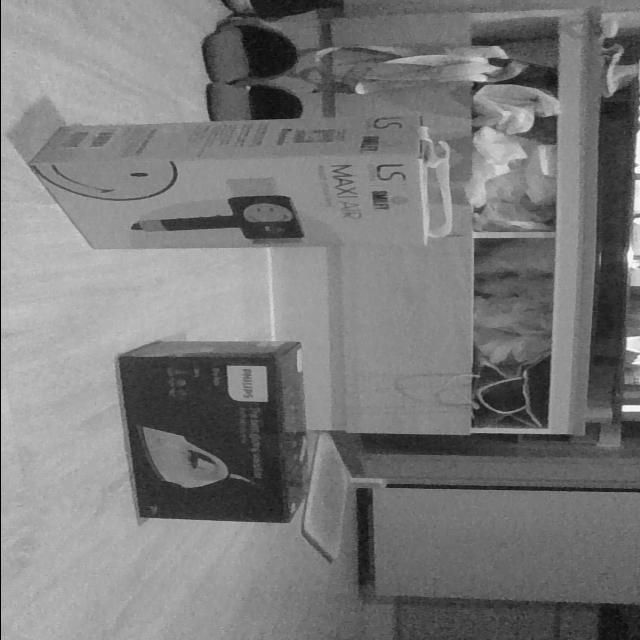Dryer: (28, 113, 454, 251)
IRON: (112, 337, 311, 525)
